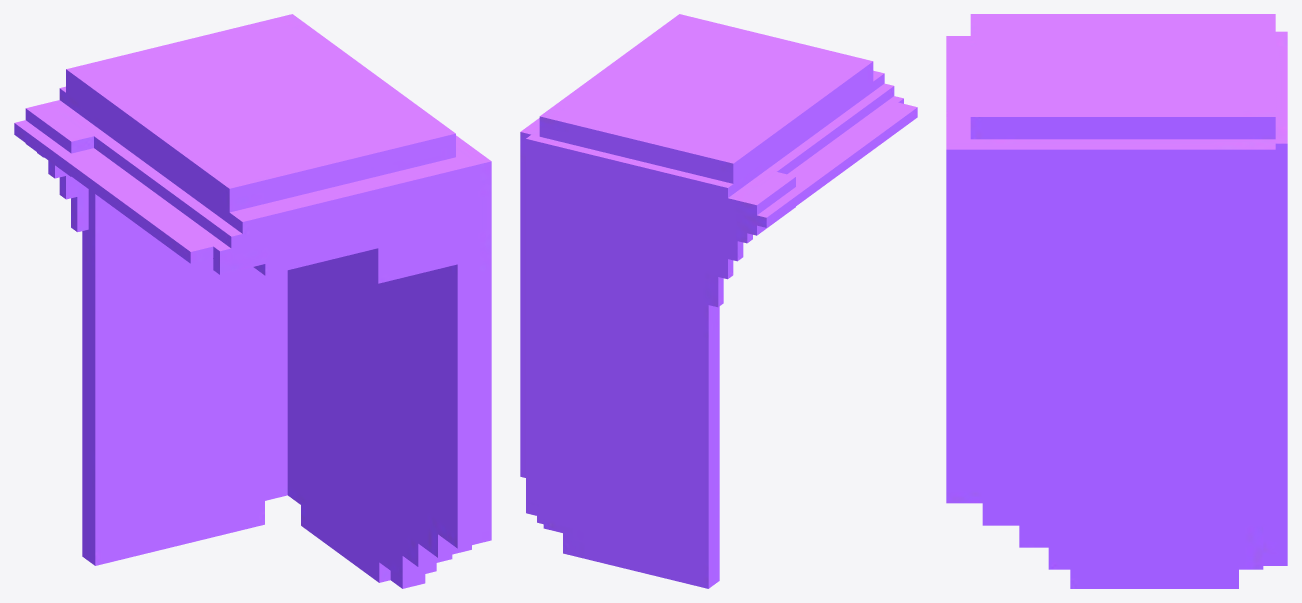
File: side_part_purple.glb
The picture shows the model from 3 angles, left to right: view 1: azimuth 30°, elevation 25°; view 2: azimuth 150°, elevation 25°; view 3: azimuth 270°, elevation 25°; orthographic projection. The views are drawn at different scales.
Parts seen in each view (by area): view 1: fem_side_part_uw.001; view 2: fem_side_part_uw.001; view 3: fem_side_part_uw.001.
Part boxes in pixels (x1,y1,x2,y2): fem_side_part_uw.001: (14,14,491,588); fem_side_part_uw.001: (520,14,917,588); fem_side_part_uw.001: (946,14,1287,588).
Size of the model in its own units: 2.6 by 4.2 by 2.8.
1 material, 1 textured.
